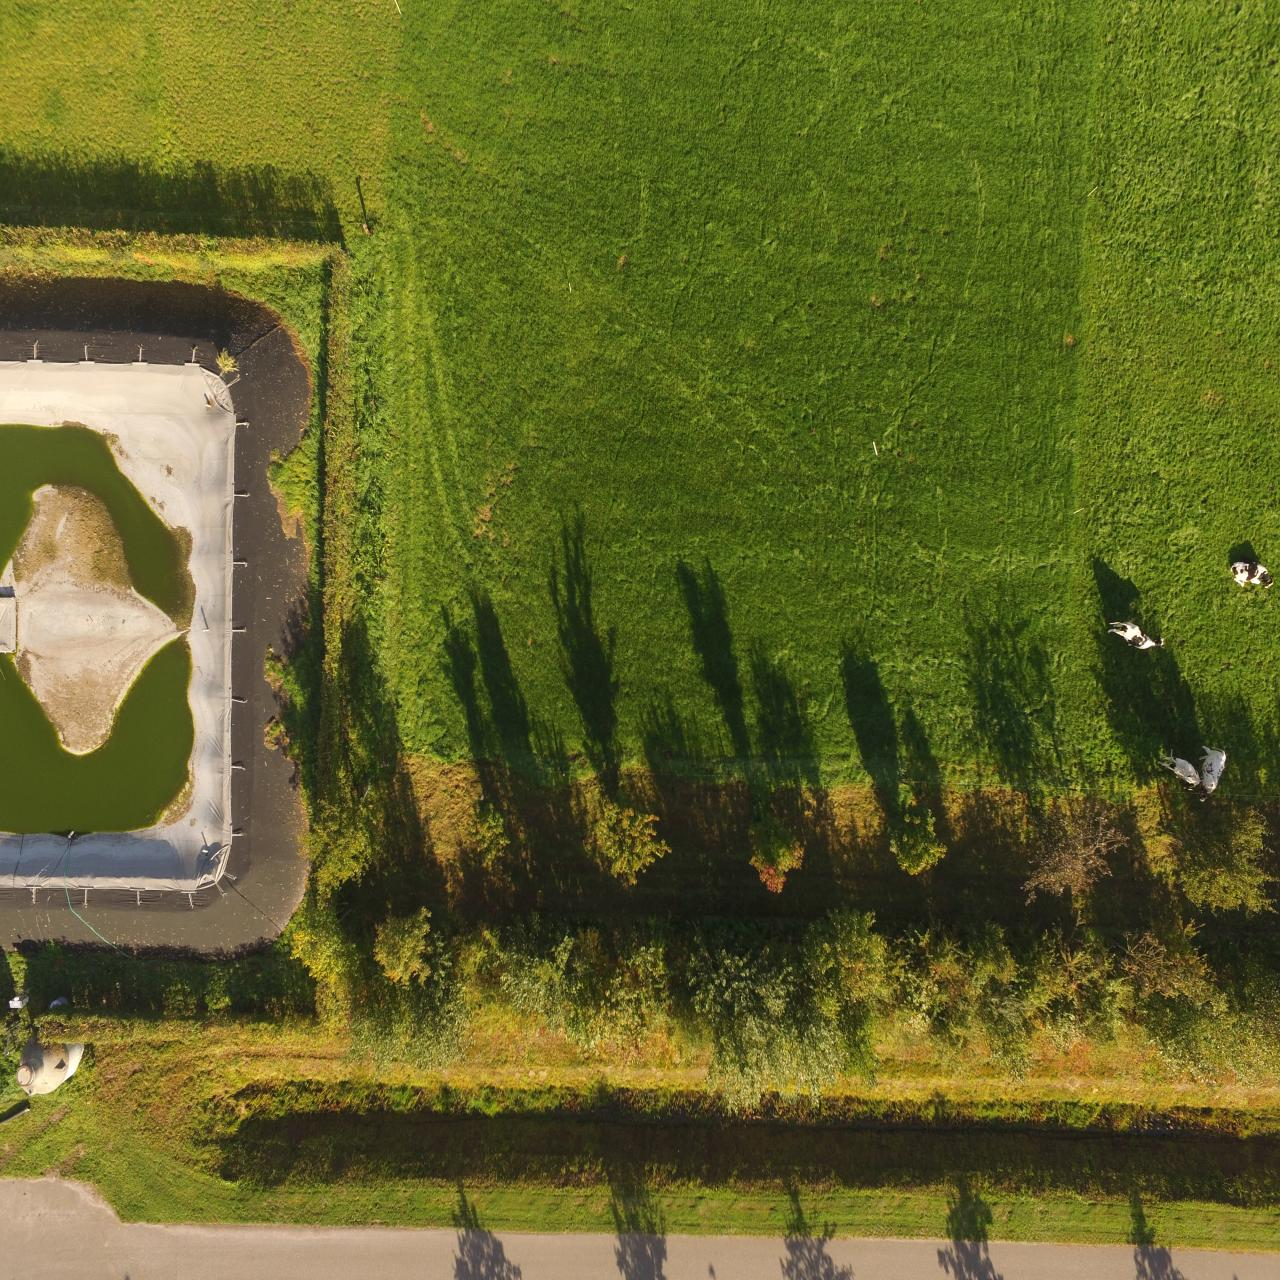cow: (1152, 749, 1203, 805), (1203, 736, 1234, 815), (1111, 617, 1167, 656), (1231, 553, 1280, 592)
